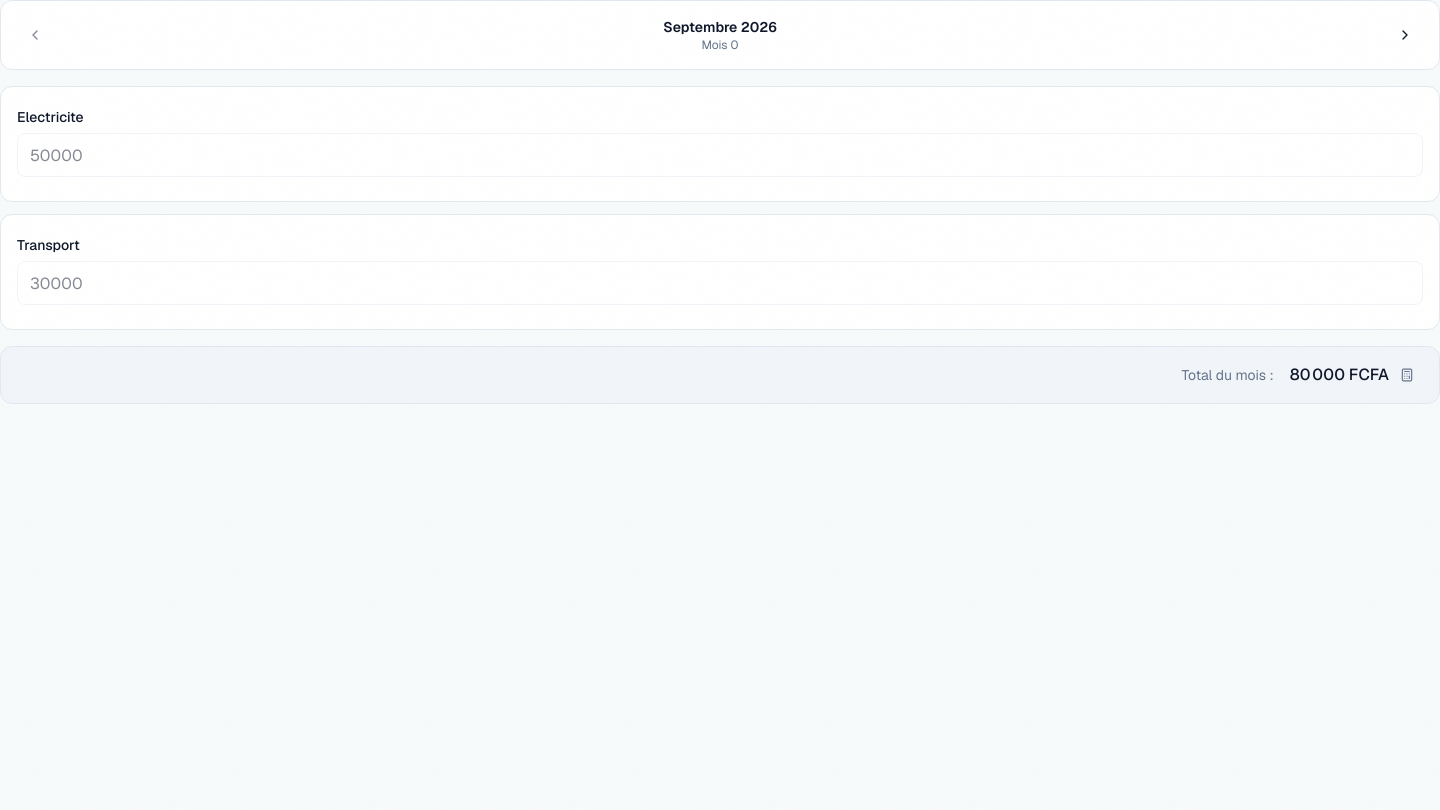
Test: ChargesTab — explicabilite du total du mois (§7.4, finding de review #1) › le popover d'explication affiche une formule en langage courant et le detail par poste
Click the button named "Expliquer le total du mois" at (1407, 375), box left=1395, top=363, right=1419, bottom=387
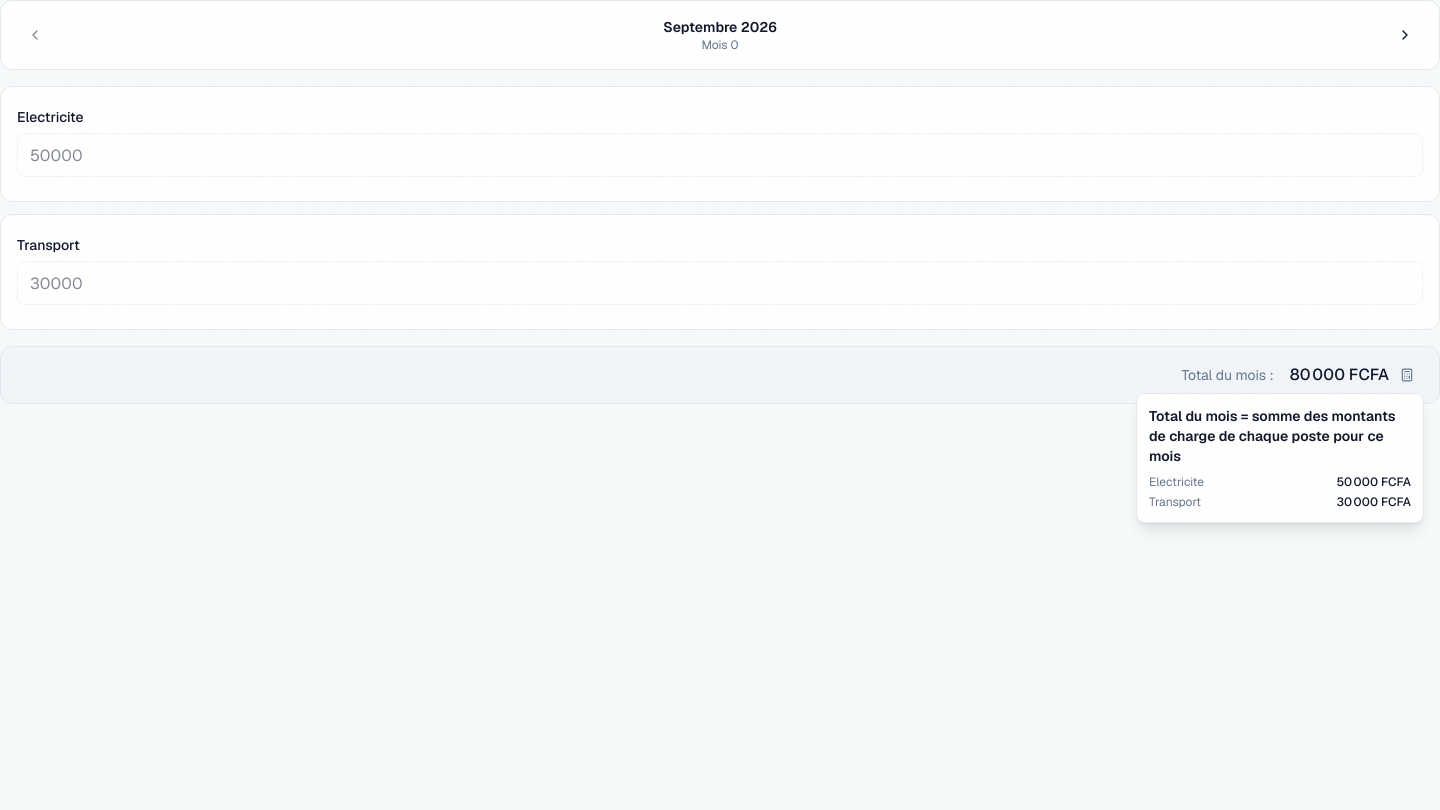
Expected: the text "Electricite" is shown, left=17, top=108, right=84, bottom=126
Expected: the text "somme des montants de charge de chaque poste" is shown, left=1149, top=407, right=1396, bottom=465
